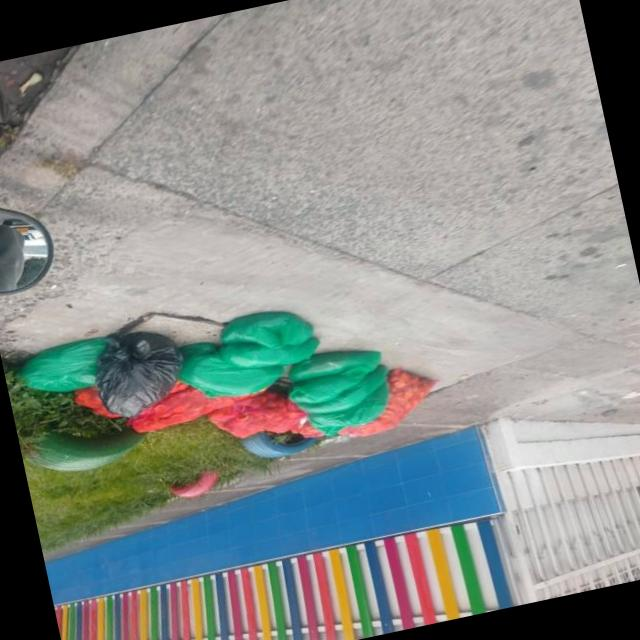high trash: (19, 312, 435, 438)
